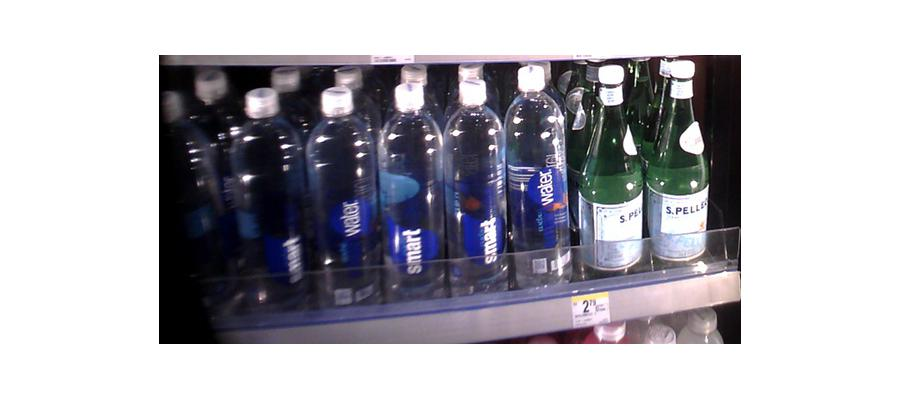bottle: (225, 91, 305, 314), (305, 84, 376, 309), (377, 70, 442, 307), (505, 63, 571, 292), (575, 69, 645, 281), (440, 72, 503, 297), (649, 65, 707, 270)
